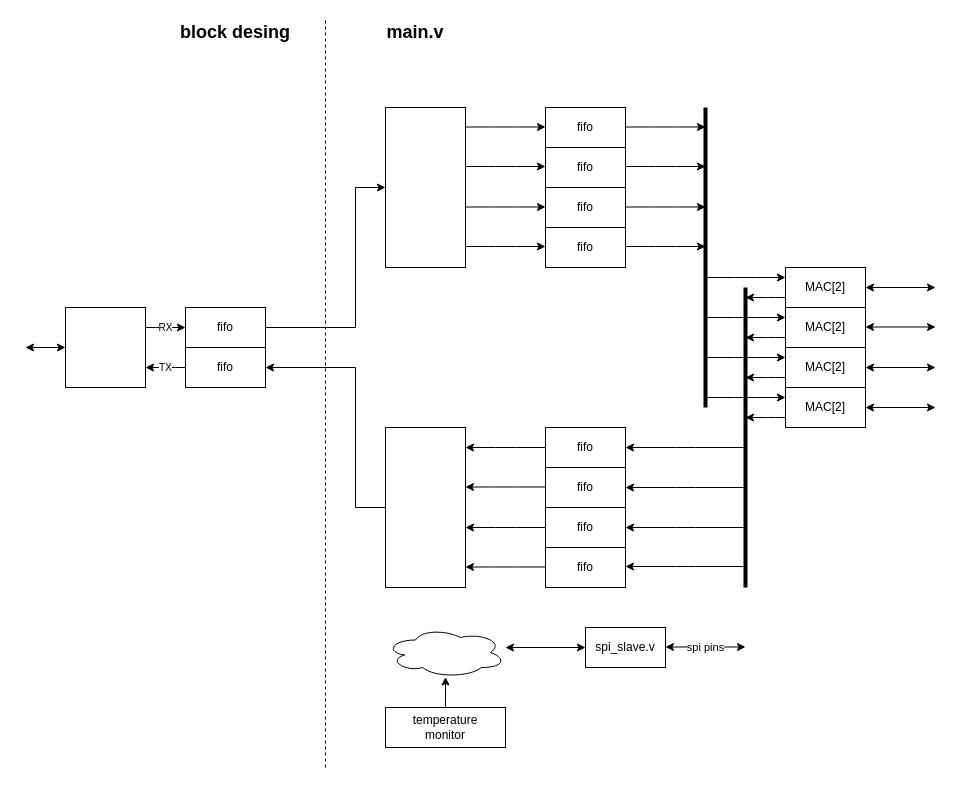
Image size: 962x786. Some labels were removed from this diagram. Here are the shapes that lost their labels. From the top down, the centre of each, then its label:
At point (425, 187): "aurora_txmux".
At point (105, 347): "Aurora[0]".
At point (425, 507): "aurora_rxmux".
At point (445, 652): "user regs".
